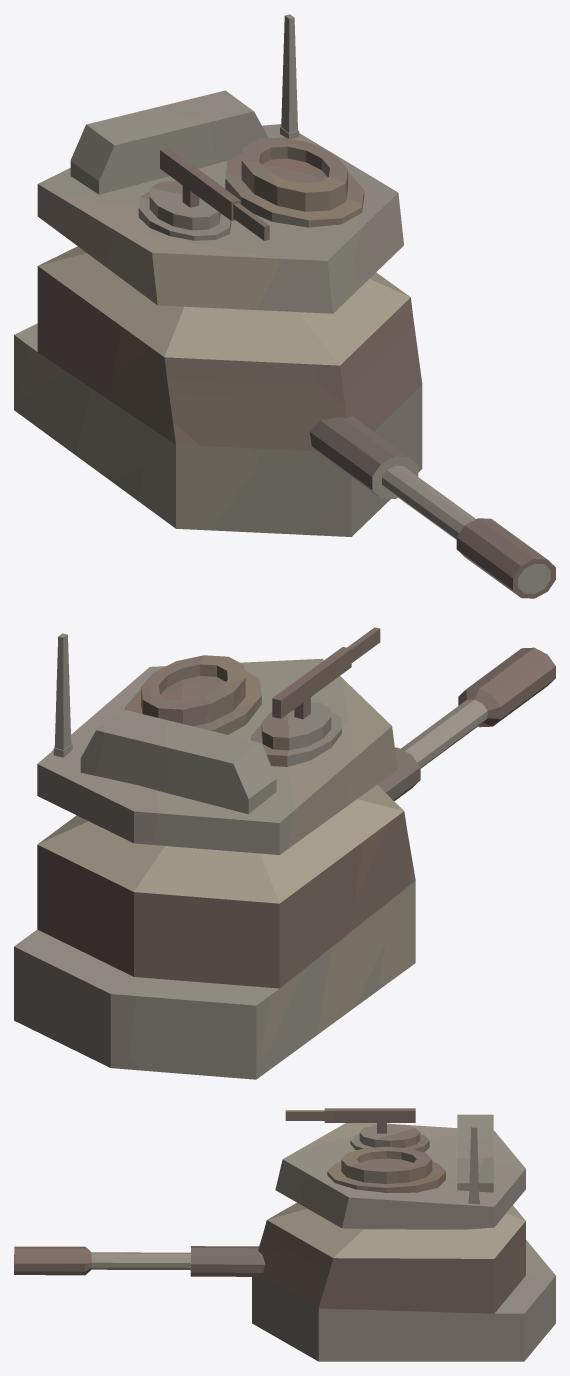
Rendered from 094_tykki.gltf.
3 renders of one model, top to bottom at view 1: azimuth 30°, elevation 25°; view 2: azimuth 150°, elevation 25°; view 3: azimuth 270°, elevation 25°, orthographic. The views are drawn at different scales.
Parts seen in each view (by area): view 1: tykki; view 2: tykki; view 3: tykki.
Part boxes in pixels (bbox=[...]): tykki: bbox=[14, 14, 555, 598]; tykki: bbox=[14, 627, 555, 1079]; tykki: bbox=[14, 1108, 555, 1361].
Bounding box in the file's own units: 2.85 × 4.04 × 8.56.
Materials: 1 (1 with a texture image).
